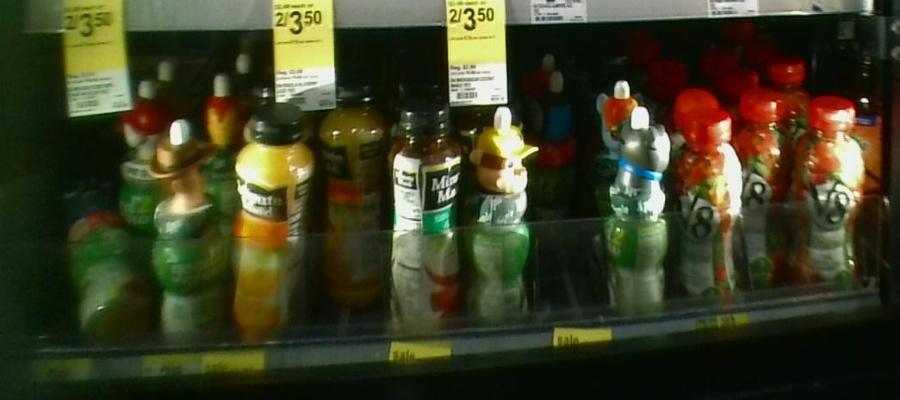bottle: (231, 97, 313, 346), (152, 119, 226, 349), (390, 94, 458, 334), (468, 100, 539, 327), (320, 82, 383, 310), (611, 109, 673, 326), (797, 95, 866, 285), (680, 113, 743, 317), (746, 82, 795, 285), (70, 228, 149, 352), (543, 73, 575, 173)
